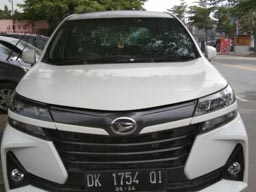plat: (83, 171, 166, 184)
